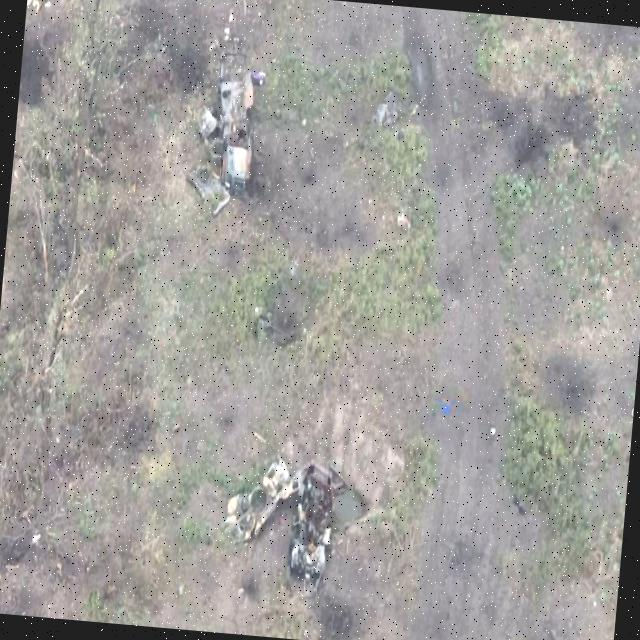Destroyed: (230, 450, 336, 589), (202, 70, 262, 194)
